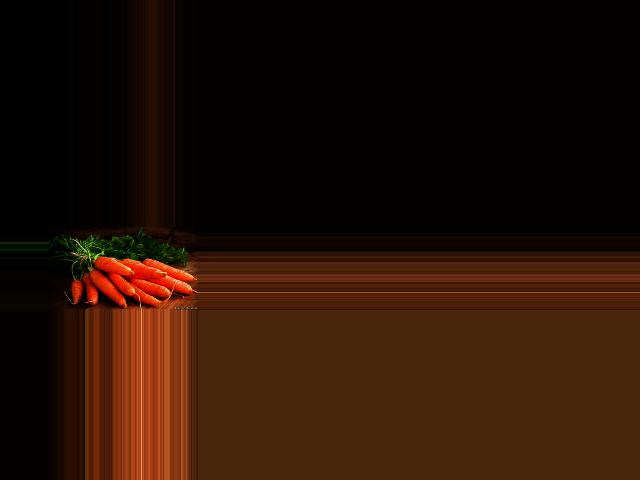carrot: (85, 265, 127, 307)
